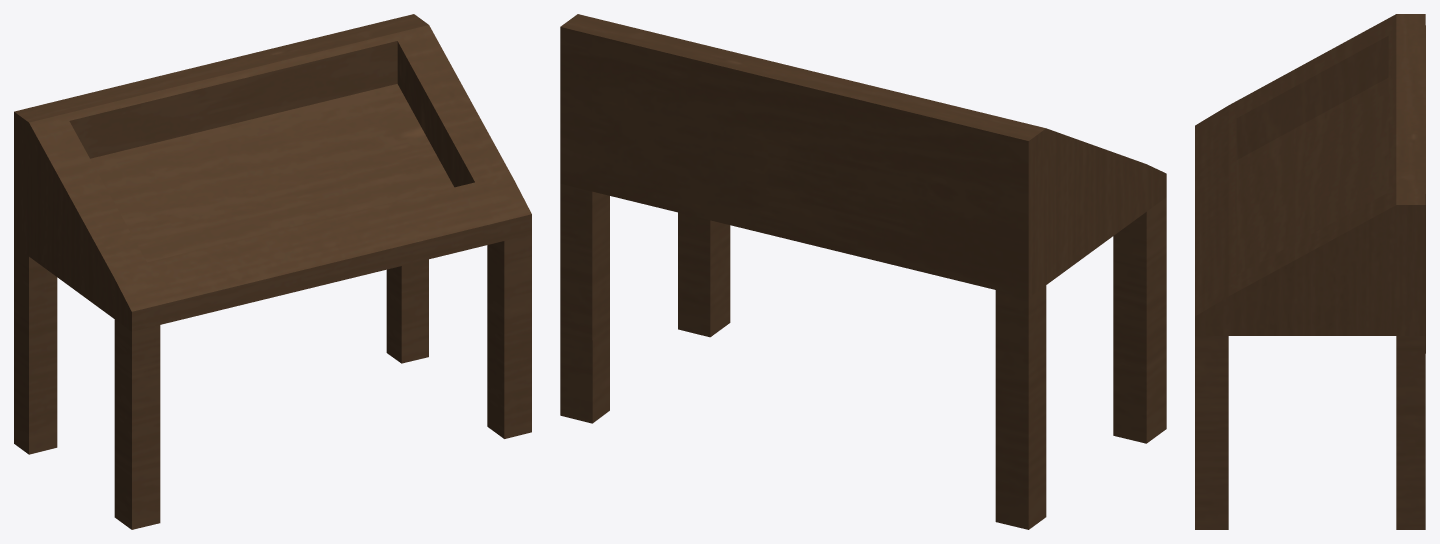
Rendered from mostrador.fbx.
3 views of the same model, side by side, from view 1: azimuth 30°, elevation 25°; view 2: azimuth 150°, elevation 25°; view 3: azimuth 270°, elevation 25° (orthographic). The views are drawn at different scales.
Visible parts, largest first — view 1: Box002; view 2: Box002; view 3: Box002.
Boxes of the visible parts, box(x1,y1,x2,y2) form: Box002: box(14, 14, 531, 529); Box002: box(560, 14, 1166, 529); Box002: box(1195, 14, 1425, 529).
Size of the model in its own units: 148 by 118 by 75.75.
